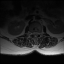CCS_normal: (34, 29, 36, 39)
LFS_normal: (39, 30, 41, 36)
LLS_normal: (36, 29, 39, 37)
RFS_normal: (30, 30, 32, 36)
RLS_normal: (32, 30, 34, 37)
